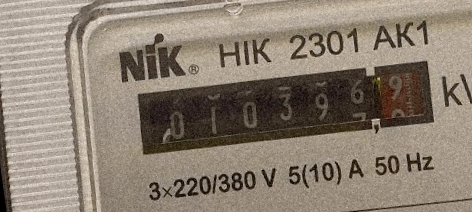0: (236, 96, 262, 132), (163, 106, 188, 141)
1: (204, 101, 221, 136)
3: (274, 89, 296, 124)
6: (344, 75, 369, 107)
9: (308, 88, 333, 124), (382, 71, 406, 104)
screen: (119, 41, 447, 176)
